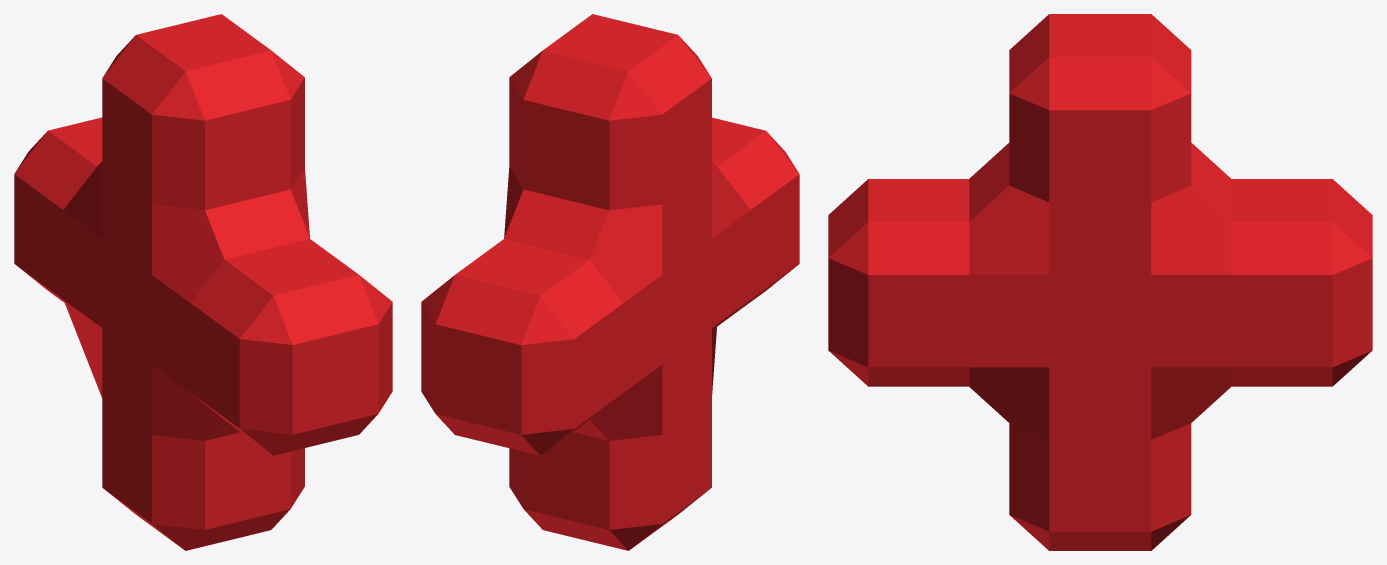
File: health cross.fbx
3 views of the same model, side by side, from view 1: azimuth 30°, elevation 25°; view 2: azimuth 150°, elevation 25°; view 3: azimuth 270°, elevation 25° (orthographic). The views are drawn at different scales.
Parts seen in each view (by area): view 1: Cube; view 2: Cube; view 3: Cube.
Part boxes in pixels (x1=…): Cube: x1=14, y1=14, x2=392, y2=550; Cube: x1=421, y1=14, x2=799, y2=550; Cube: x1=828, y1=14, x2=1372, y2=550.
Bounding box in the file's own units: 200 × 599 × 599.
